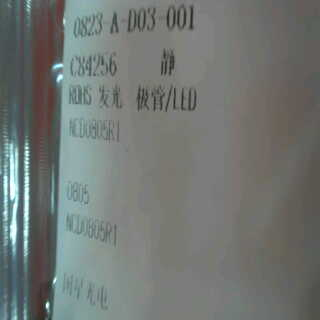LED: (95, 83, 202, 116)
